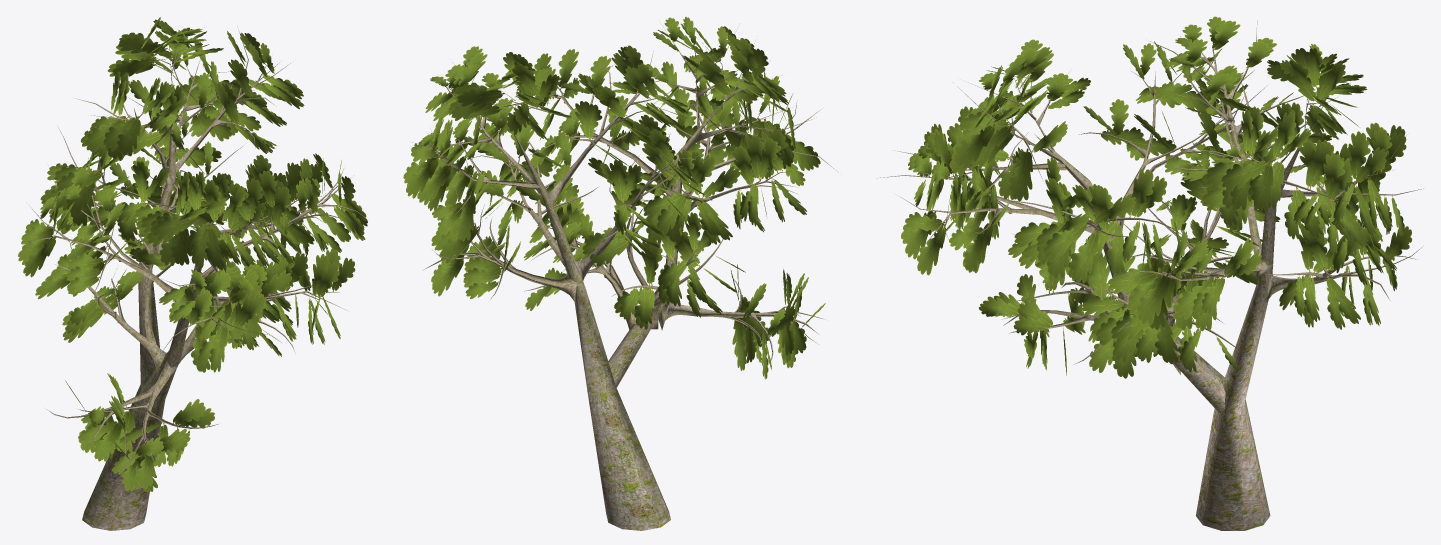
The model's file is oak3.fbx.
3 views of the same model, side by side, from view 1: azimuth 30°, elevation 25°; view 2: azimuth 150°, elevation 25°; view 3: azimuth 270°, elevation 25° (orthographic). The views are drawn at different scales.
Parts seen in each view (by area): view 1: Tree_1, Tree_0; view 2: Tree_1, Tree_0; view 3: Tree_1, Tree_0.
Boxes of the visible parts, box(x1,y1,x2,y2) form: Tree_1: box(18, 17, 367, 492); Tree_0: box(25, 27, 368, 530); Tree_1: box(403, 17, 825, 379); Tree_0: box(411, 27, 838, 530); Tree_1: box(901, 16, 1411, 378); Tree_0: box(877, 20, 1423, 530).
Bounding box in the file's own units: 347 × 457 × 441.
Materials: 2 (2 with a texture image).
